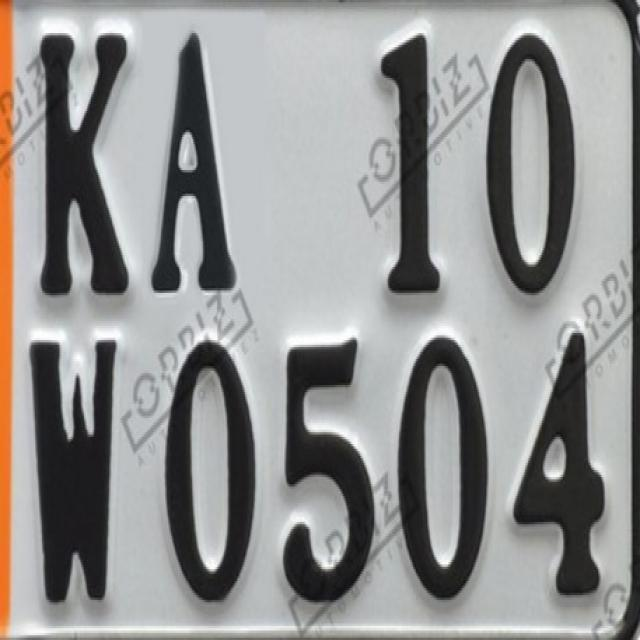0: (394, 316, 494, 612), (480, 18, 582, 306), (162, 319, 258, 612)
1: (372, 12, 448, 304)
4: (499, 302, 614, 620)
5: (275, 314, 386, 601)
A: (144, 30, 248, 314)
K: (34, 20, 136, 308)
W: (22, 330, 130, 622)
